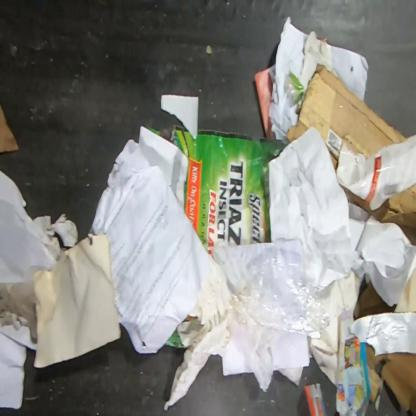cardboard: (283, 64, 408, 170), (340, 178, 416, 247)
soft_plastic: (143, 121, 290, 258), (228, 254, 332, 341)
